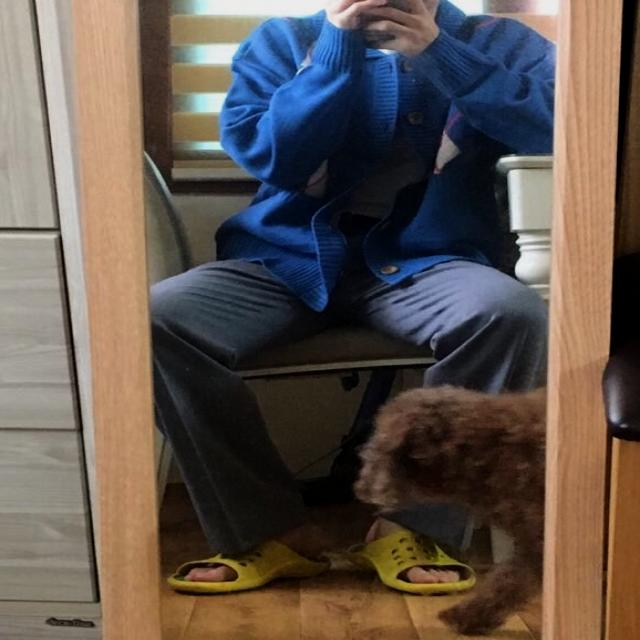cardigan: (217, 0, 560, 311)
